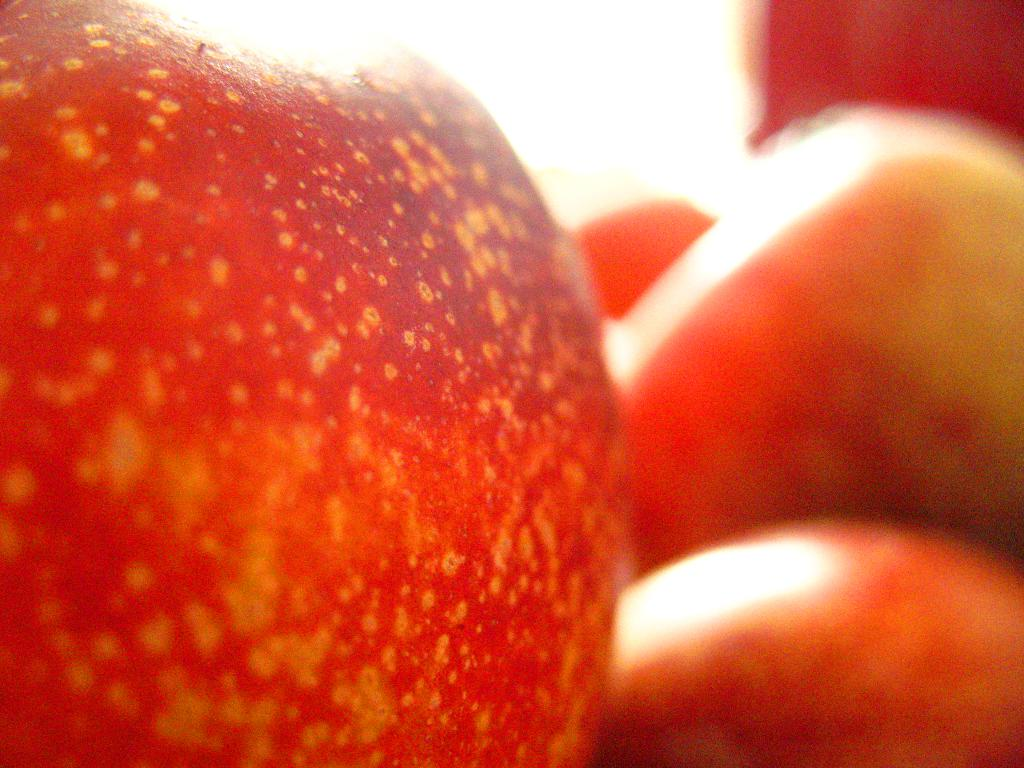Apple: (0, 8, 673, 750), (602, 108, 1023, 545), (605, 510, 1023, 767), (729, 0, 1023, 158), (565, 198, 714, 320)
